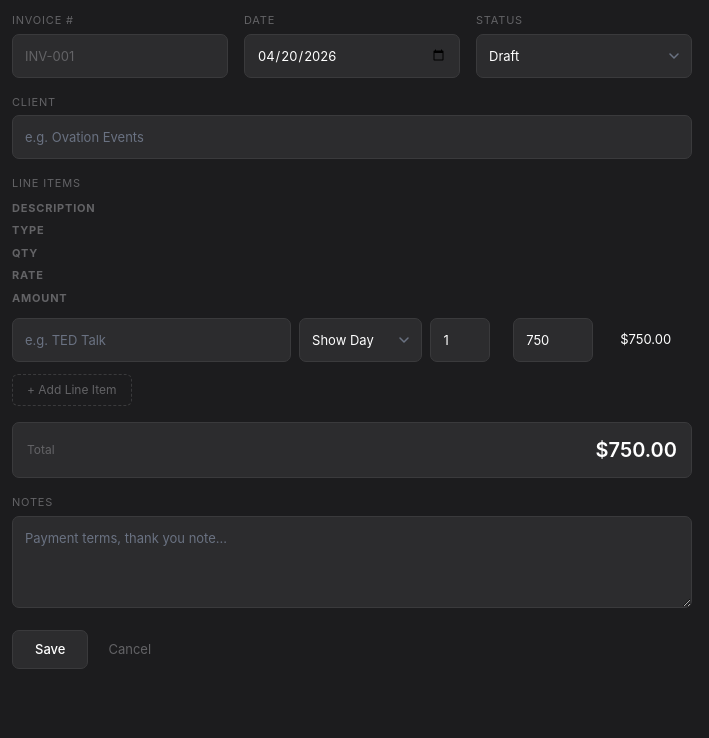
it: adds a new line item row
Click the button "+ Add Line Item". click: (72, 390)
box: [12,374,132,406]
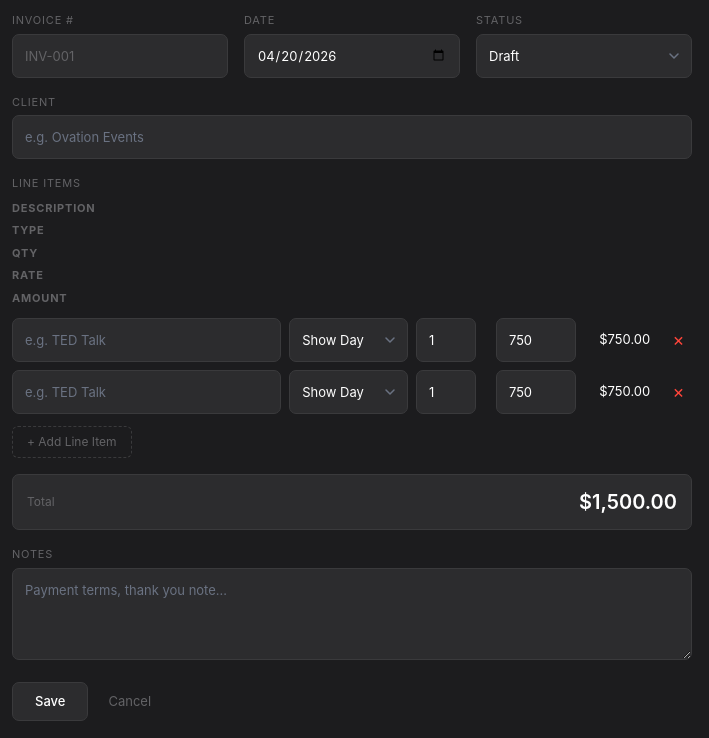
Now the field named "item-1-description" is shown, box [12,370,281,414]
